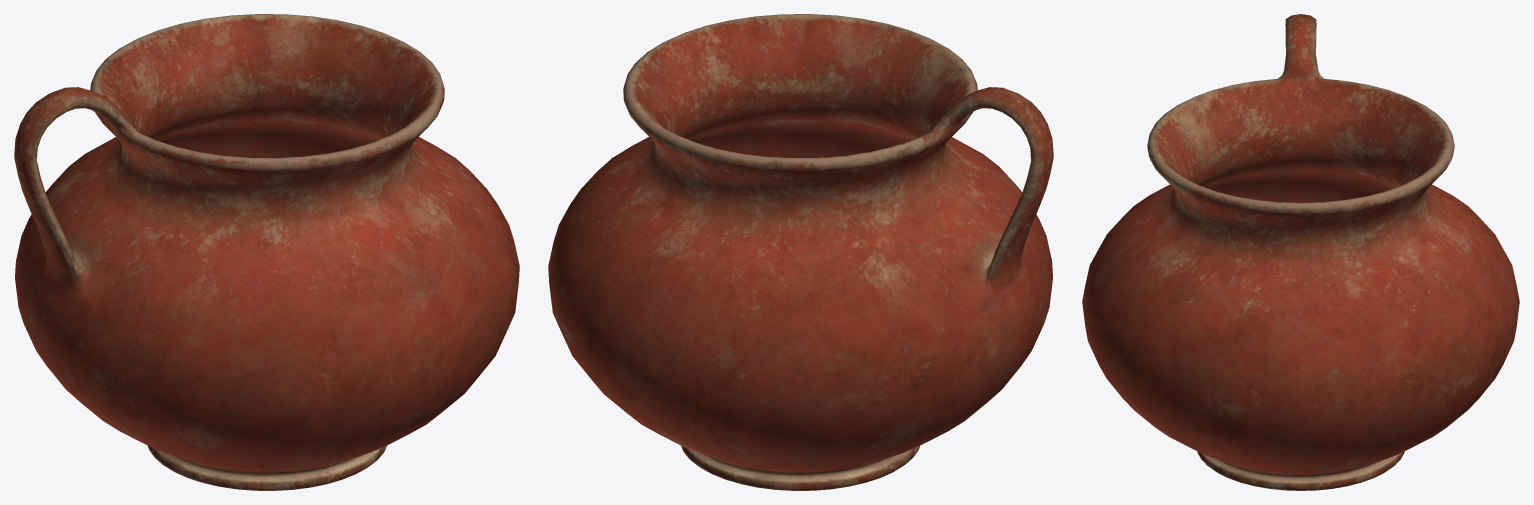
File: viking_pot_opt.glb
The picture shows the model from 3 angles, left to right: view 1: azimuth 30°, elevation 25°; view 2: azimuth 150°, elevation 25°; view 3: azimuth 270°, elevation 25°; orthographic projection. The views are drawn at different scales.
Parts seen in each view (by area): view 1: Viking_Pot:viking_pot_low_lambert1_0; view 2: Viking_Pot:viking_pot_low_lambert1_0; view 3: Viking_Pot:viking_pot_low_lambert1_0.
Boxes of the visible parts, <box> form: Viking_Pot:viking_pot_low_lambert1_0: <box>14,14,519,490</box>; Viking_Pot:viking_pot_low_lambert1_0: <box>548,14,1053,490</box>; Viking_Pot:viking_pot_low_lambert1_0: <box>1082,14,1519,490</box>.
Bounding box in the file's own units: 20.02 × 16.3 × 18.72.
Materials: 1 (1 with a texture image).
